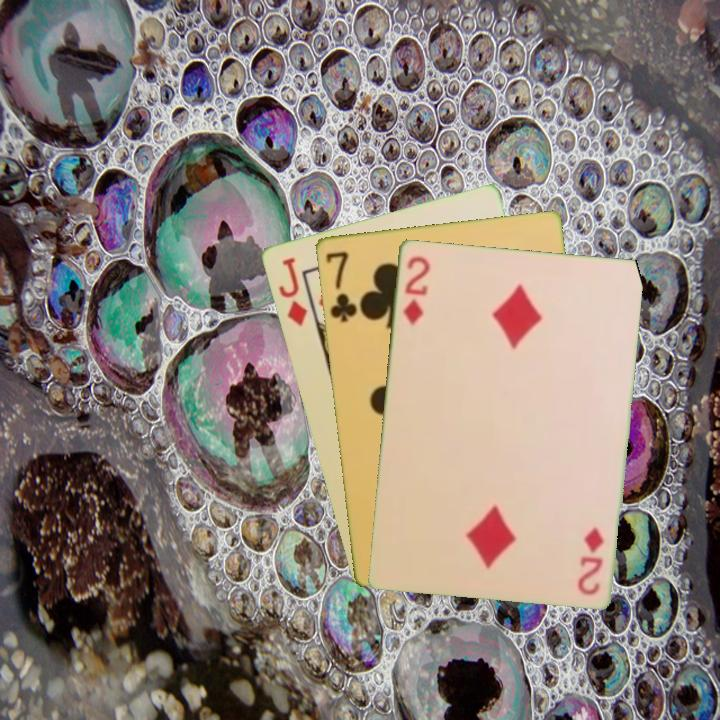2d: (399, 252, 433, 328), (576, 524, 606, 598)
7c: (322, 247, 360, 325)
Jd: (274, 253, 310, 330)
